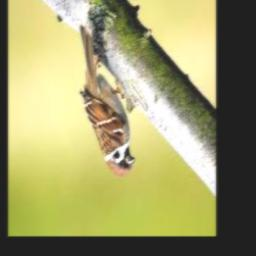Sparrow: (80, 26, 135, 176)
